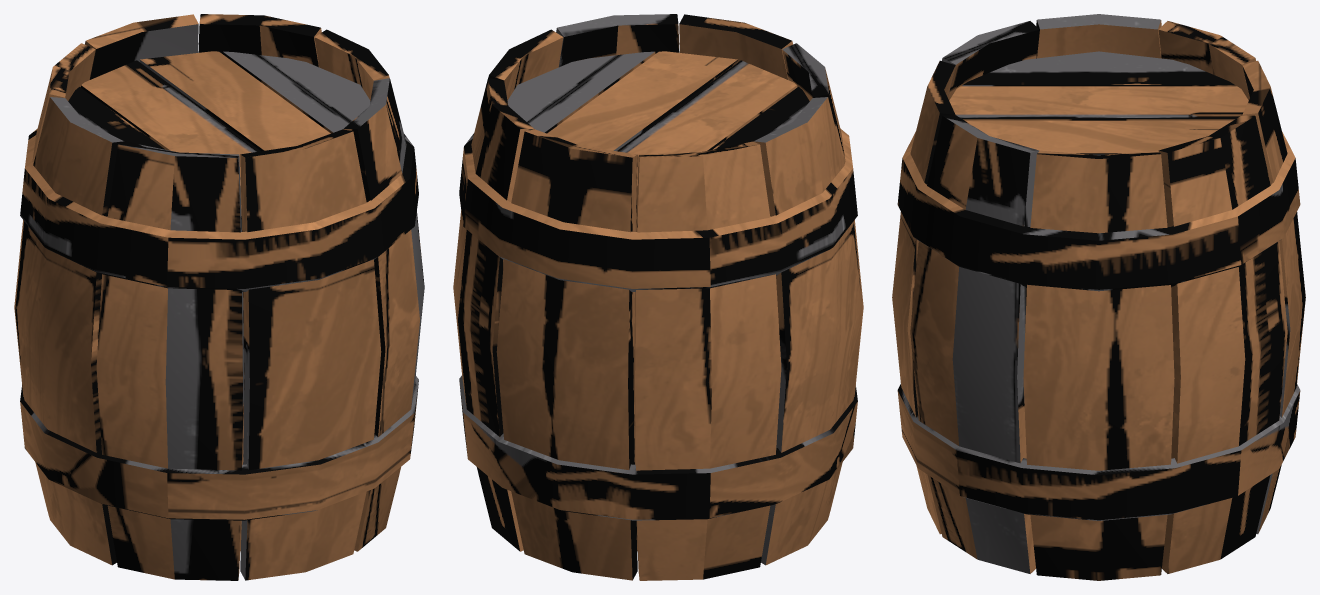
The model's file is CurvatureBarrel.fbx.
The picture shows the model from 3 angles, left to right: view 1: azimuth 30°, elevation 25°; view 2: azimuth 150°, elevation 25°; view 3: azimuth 270°, elevation 25°; orthographic projection.
Visible parts, largest first — view 1: Cylinder.008; view 2: Cylinder.008; view 3: Cylinder.008.
Part boxes in pixels (bbox=[...]): Cylinder.008: bbox=[14, 14, 424, 580]; Cylinder.008: bbox=[453, 14, 863, 580]; Cylinder.008: bbox=[892, 14, 1305, 580].
Size of the model in its own units: 213 by 240 by 213.
Materials: 1 (1 with a texture image).
